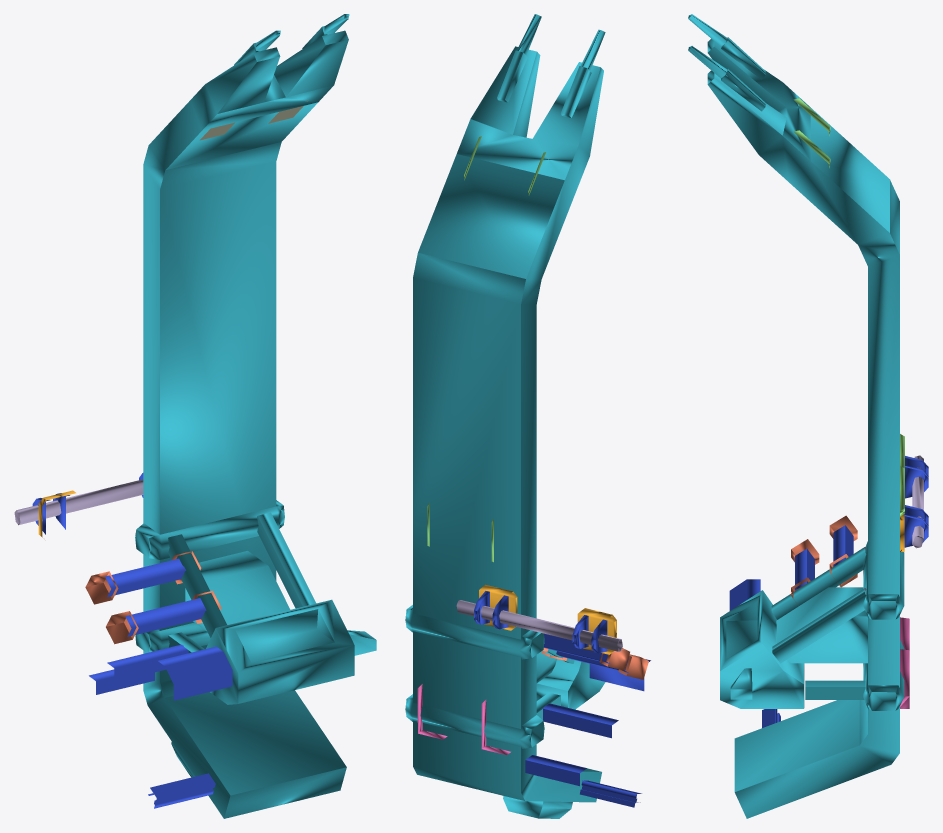
The model's file is faraday_cage002_Right_lod3.glb.
The picture shows the model from 3 angles, left to right: view 1: azimuth 30°, elevation 25°; view 2: azimuth 150°, elevation 25°; view 3: azimuth 270°, elevation 25°; orthographic projection. The views are drawn at different scales.
Bounding box in the file's own units: 2.23 × 6.6 × 1.89.
